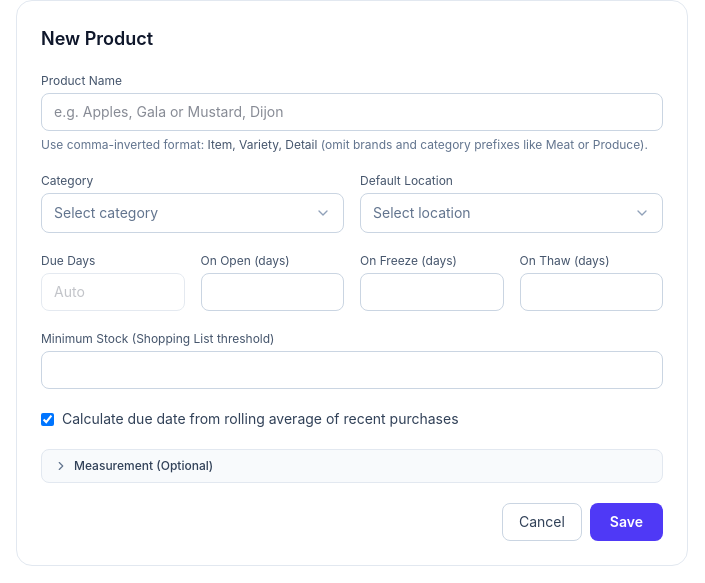
Test: ProductFormPage rolling-average due days default › checks rolling average by default on new product and disables manual Due Days until unchecked
Expected: the field labelled "Due Days" is disabled, [41,273,184,311]
# Unchecking re-enables manual Due Days entry
What coordinates should you click on to do the following:
click the checkbox labelled "Calculate due date from rolling average of recent purchases"
I would click on:
 (48, 419)
Its box is [41,412,54,426].
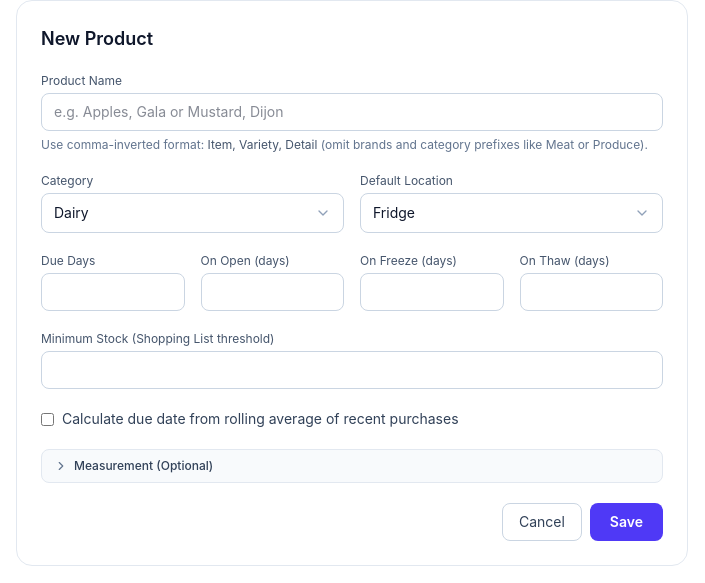
Now the checkbox labelled "Calculate due date from rolling average of recent purchases" is not checked, box [41,412,54,426]
Now the field labelled "Due Days" is enabled, box [41,273,184,311]
